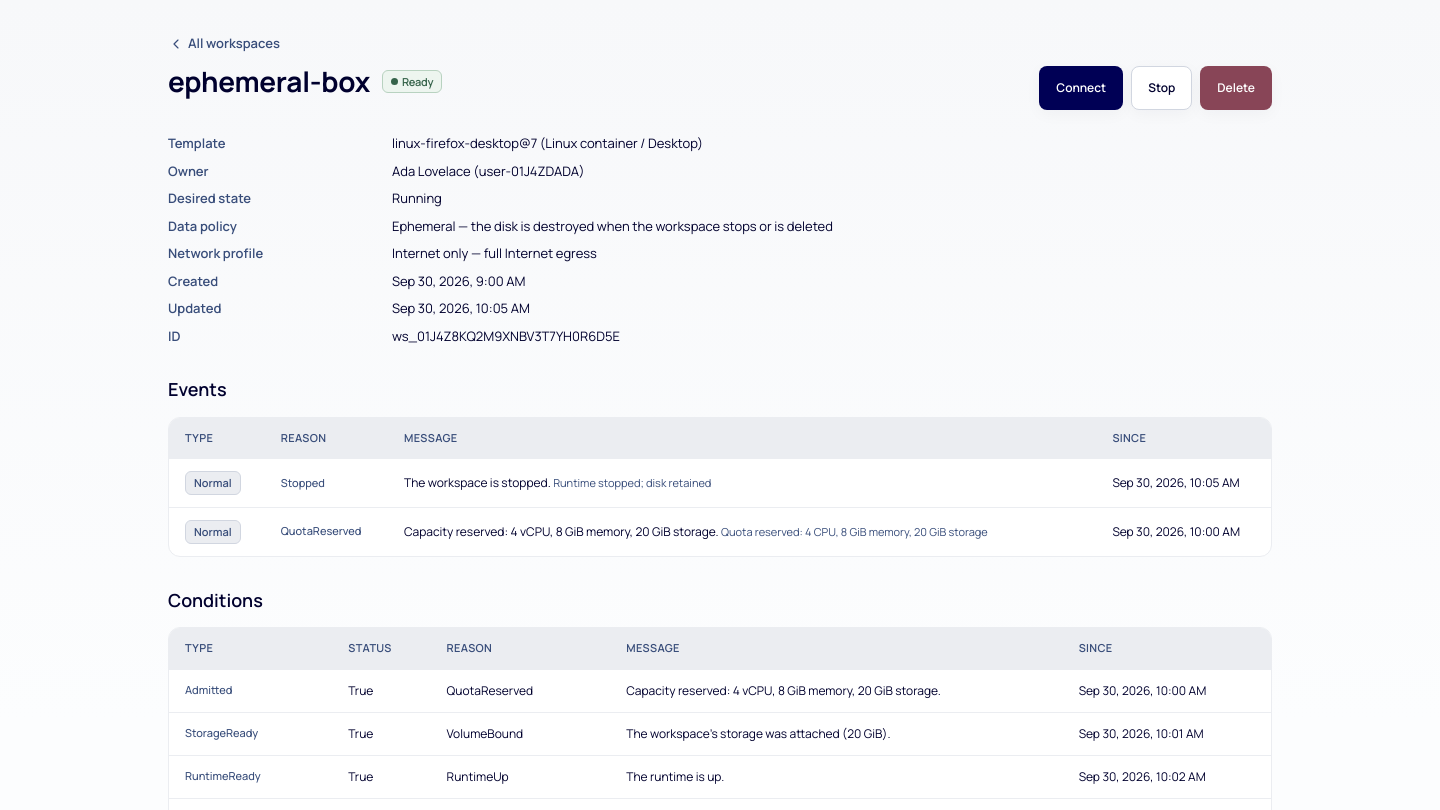
WorkspaceDetailPage delete flow (V3.27) › delete: confirm names the destroy consequence for Ephemeral
Click the button "Delete". click: click(1236, 88)
box: left=1200, top=66, right=1272, bottom=110
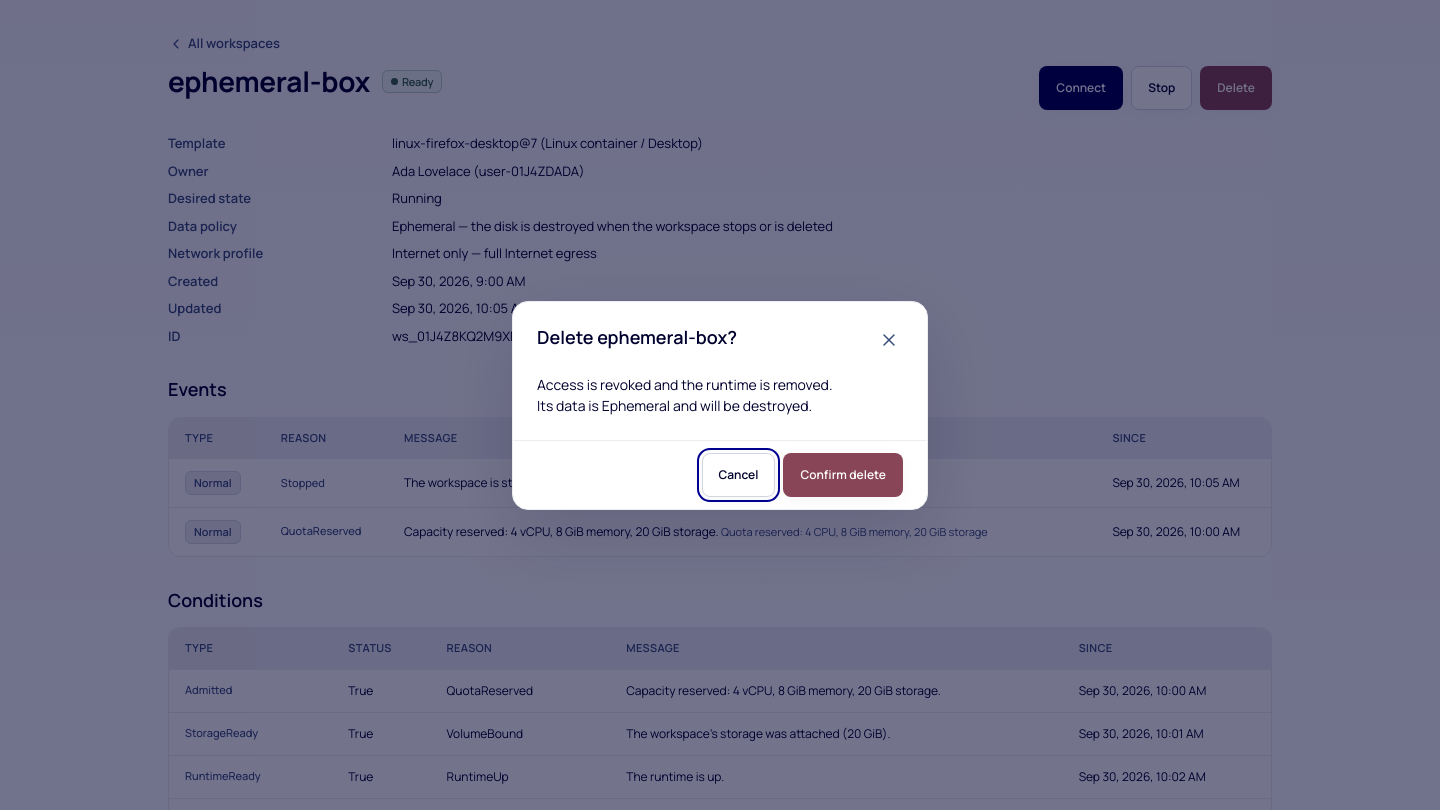
Expected: the dialog shows "Ephemeral and will be destroyed", left=537, top=396, right=812, bottom=414
